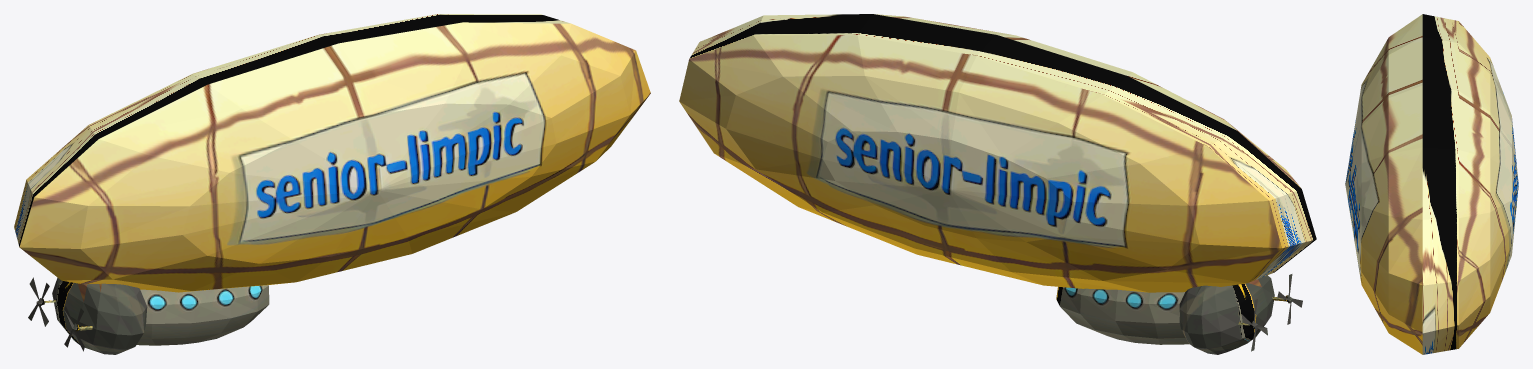
The model's file is Zepplin.glb.
The picture shows the model from 3 angles, left to right: view 1: azimuth 30°, elevation 25°; view 2: azimuth 150°, elevation 25°; view 3: azimuth 270°, elevation 25°; orthographic projection. The views are drawn at different scales.
Parts seen in each view (by area): view 1: Zepplin; view 2: Zepplin; view 3: Zepplin.
Boxes of the visible parts, x1=… form: Zepplin: x1=14, y1=14, x2=650, y2=354; Zepplin: x1=679, y1=14, x2=1316, y2=354; Zepplin: x1=1345, y1=14, x2=1518, y2=354.
Size of the model in its own units: 437 by 174 by 117.
1 material, 1 textured.
